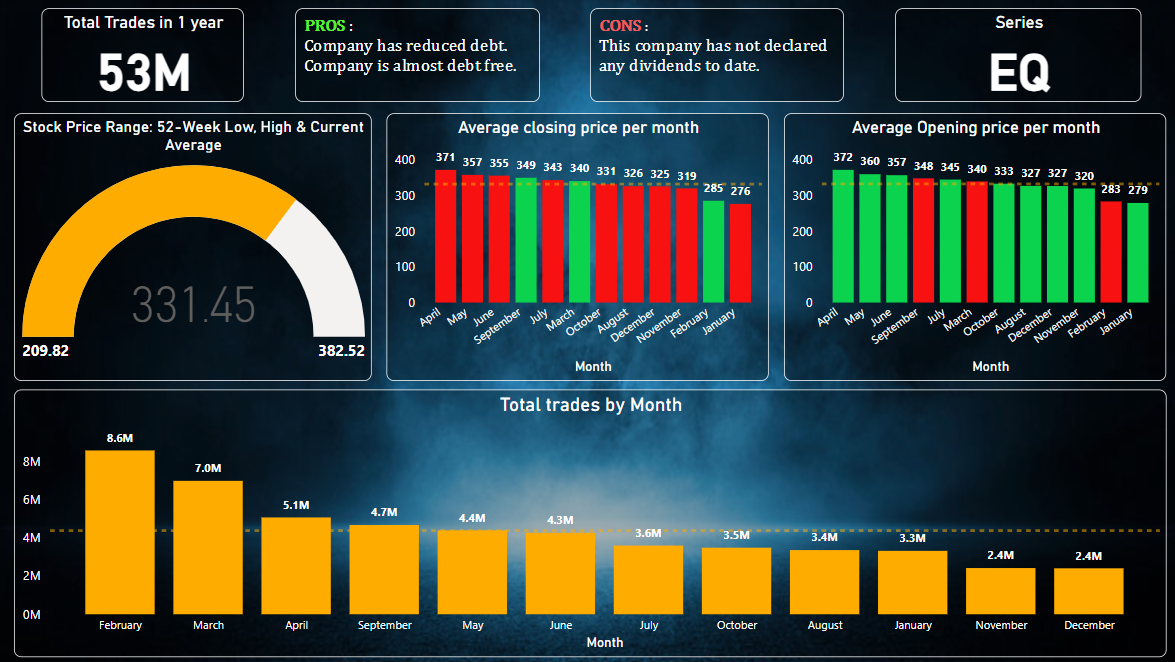

This screenshot's page, from the dashboard's own definition file:
{"tool":"powerbi","page":{"name":"Page 2","canvas":[1280,720],"ordinal":1},"visuals":[{"type":"clusteredColumnChart","title":"Average Opening price per month","fields":{"Y":["Avg(Quote-Equity-JIOFIN-EQ-27-01-2024-to-27-01-2025.OPEN )"],"Category":["Quote-Equity-JIOFIN-EQ-27-01-2024-to-27-01-2025.Month"]},"box":[849.9,125.1,411.5,287.8],"z":0},{"type":"clusteredColumnChart","title":"Average closing price per month","fields":{"Y":["Avg(Quote-Equity-JIOFIN-EQ-27-01-2024-to-27-01-2025.close )"],"Category":["Quote-Equity-JIOFIN-EQ-27-01-2024-to-27-01-2025.Month"]},"box":[422.3,125.1,411.5,287.8],"z":1000},{"type":"card","title":"Total Trades in 1 year","fields":{"Values":["Sum(Quote-Equity-JIOFIN-EQ-27-01-2024-to-27-01-2025.No of trades )"]},"box":[51.1,12.1,217.9,100.9],"z":2000},{"type":"gauge","title":"Stock Price Range: 52-Week Low, High & Current Average","fields":{"Y":["Avg(Quote-Equity-JIOFIN-EQ-27-01-2024-to-27-01-2025.ltp )"],"MaxValue":["Avg(Quote-Equity-JIOFIN-EQ-27-01-2024-to-27-01-2025.52W H )"],"MinValue":["Avg(Quote-Equity-JIOFIN-EQ-27-01-2024-to-27-01-2025.52W L )"]},"box":[21.5,125.1,384.6,287.8],"z":3000},{"type":"clusteredColumnChart","title":"Total trades  by Month","fields":{"Y":["Sum(Quote-Equity-JIOFIN-EQ-27-01-2024-to-27-01-2025.No of trades )"],"Category":["Quote-Equity-JIOFIN-EQ-27-01-2024-to-27-01-2025.Month"]},"box":[21.5,422.3,1239.9,287.8],"z":4000},{"type":"textbox","box":[324.1,12.1,263.6,100.9],"z":4001},{"type":"textbox","box":[641.5,12.1,273,100.9],"z":4002},{"type":"card","title":"Series","fields":{"Values":["Min(Quote-Equity-JIOFIN-EQ-27-01-2024-to-27-01-2025.series )"]},"box":[969.6,12.1,264.9,100.9],"z":4003}]}

Visuals, with their boxes in screenshot pixels (x1, y1, x2, y2), scaled from the page's 1280x720 canvas onto the 1175x662 screenshot:
"Average Opening price per month" clusteredColumnChart: {"left": 780, "top": 115, "right": 1158, "bottom": 380}
"Average closing price per month" clusteredColumnChart: {"left": 388, "top": 115, "right": 765, "bottom": 380}
"Total Trades in 1 year" card: {"left": 47, "top": 11, "right": 247, "bottom": 104}
"Stock Price Range: 52-Week Low, High & Current Average" gauge: {"left": 20, "top": 115, "right": 373, "bottom": 380}
"Total trades  by Month" clusteredColumnChart: {"left": 20, "top": 388, "right": 1158, "bottom": 653}
textbox: {"left": 298, "top": 11, "right": 539, "bottom": 104}
textbox: {"left": 589, "top": 11, "right": 839, "bottom": 104}
"Series" card: {"left": 890, "top": 11, "right": 1133, "bottom": 104}
